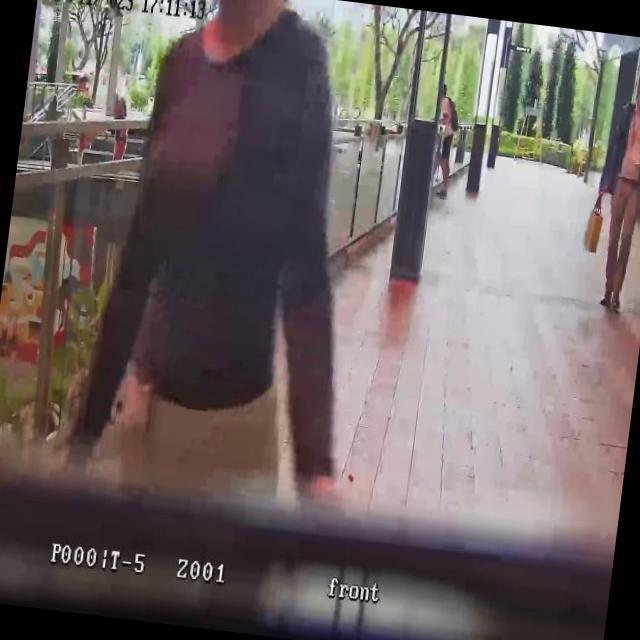person: (50, 0, 393, 502), (583, 63, 640, 315), (428, 82, 464, 202)
